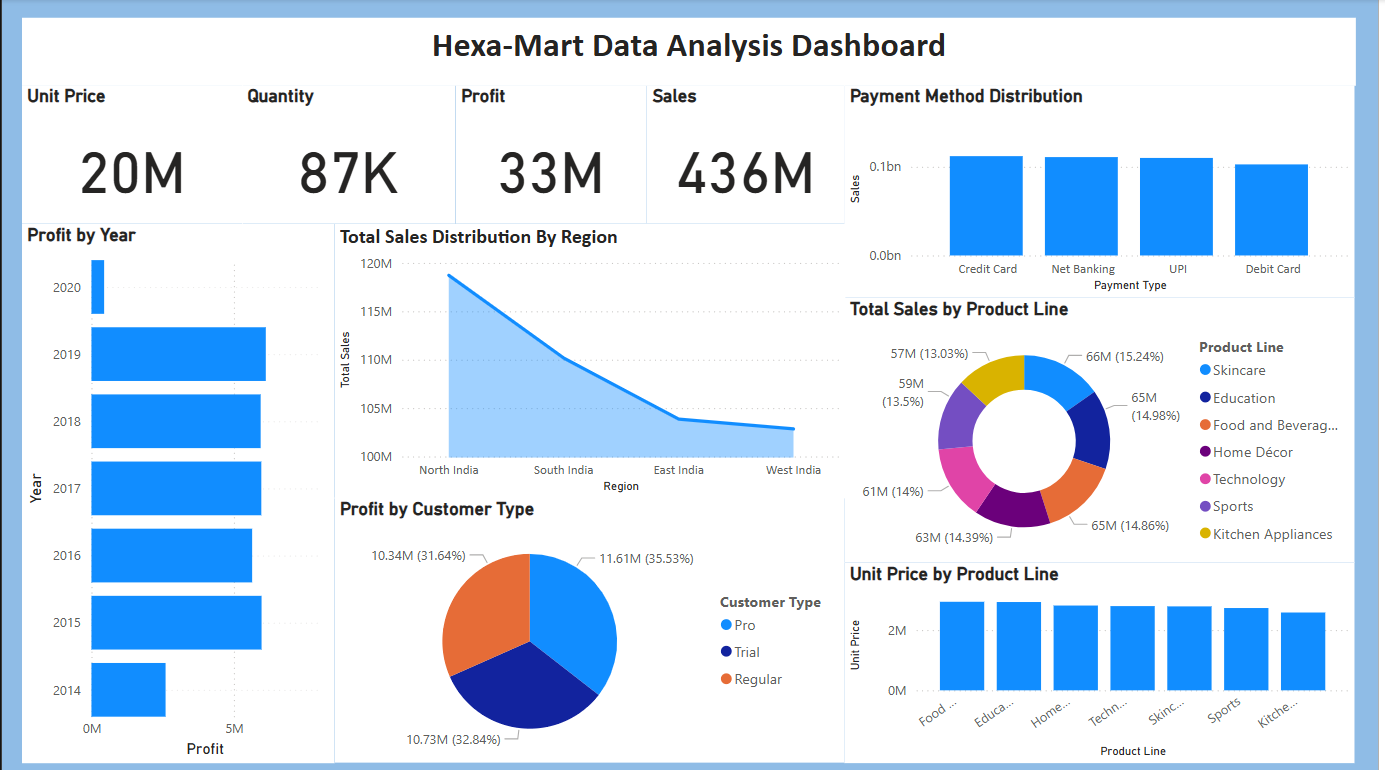

This screenshot's page, from the dashboard's own definition file:
{"tool":"powerbi","page":{"name":"Page 1","canvas":[1280,720],"ordinal":0},"visuals":[{"type":"areaChart","title":"Total Sales Distribution By Region","fields":{"Category":["HexaMart_Case.Region"],"Y":["Sum(HexaMart_Case.Total Sales)"]},"box":[309.2,209.2,475,255.3],"z":0},{"type":"donutChart","title":"Total Sales by Product Line","fields":{"Category":["HexaMart_Case.Product Line"],"Y":["Sum(HexaMart_Case.Total Sales)"]},"box":[784,277.3,474.7,246.7],"z":1000},{"type":"pieChart","title":"Profit by Customer Type","fields":{"Category":["HexaMart_Case.Customer Type"],"Y":["Sum(HexaMart_Case.Profit)"]},"box":[309.3,464,474.7,246.7],"z":2000},{"type":"columnChart","title":"Payment Method Distribution","fields":{"Category":["HexaMart_Case.Payment Method"],"Y":["Sum(HexaMart_Case.Total Sales)"]},"box":[784,80,474.7,197.3],"z":3000},{"type":"clusteredBarChart","title":"Profit by Year","fields":{"Category":["HexaMart_Case.Date of Order.Variation.Date Hierarchy.Year"],"Y":["Sum(HexaMart_Case.Profit)"]},"box":[18.4,209.2,290.8,501.3],"z":4000},{"type":"card","title":"Sales","fields":{"Values":["Sum(HexaMart_Case.Total Sales)"]},"box":[600,80.3,184.2,128.9],"z":5000},{"type":"card","title":"Profit","fields":{"Values":["Sum(HexaMart_Case.Profit)"]},"box":[422.4,80.3,177.6,128.9],"z":6000},{"type":"card","title":"Quantity","fields":{"Values":["Sum(HexaMart_Case.Quantity)"]},"box":[223.7,80.3,198.7,128.9],"z":7000},{"type":"card","title":"Unit Price","fields":{"Values":["Sum(HexaMart_Case.Unit Price)"]},"box":[18.4,80.3,205.3,128.9],"z":8000},{"type":"lineStackedColumnComboChart","title":"Unit Price by Product Line","fields":{"Category":["HexaMart_Case.Product Line"],"Y":["Sum(HexaMart_Case.Unit Price)"]},"box":[784,524,474.7,186.7],"z":9000},{"type":"textbox","box":[18.4,17.1,1240.8,63.2],"z":9001}]}

Visuals, with their boxes in screenshot pixels (x1, y1, x2, y2), scaled from the page's 1280x720 canvas onto the 1385x770 screenshot:
"Total Sales Distribution By Region" areaChart: Rect(335, 224, 849, 497)
"Total Sales by Product Line" donutChart: Rect(848, 297, 1362, 560)
"Profit by Customer Type" pieChart: Rect(335, 496, 848, 760)
"Payment Method Distribution" columnChart: Rect(848, 86, 1362, 297)
"Profit by Year" clusteredBarChart: Rect(20, 224, 335, 760)
"Sales" card: Rect(649, 86, 849, 224)
"Profit" card: Rect(457, 86, 649, 224)
"Quantity" card: Rect(242, 86, 457, 224)
"Unit Price" card: Rect(20, 86, 242, 224)
"Unit Price by Product Line" lineStackedColumnComboChart: Rect(848, 560, 1362, 760)
textbox: Rect(20, 18, 1362, 86)
